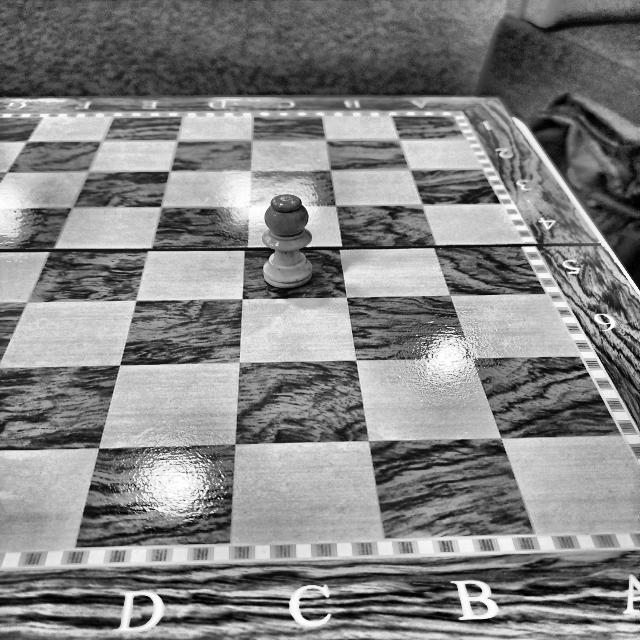white-bishop: (262, 195, 312, 288)
